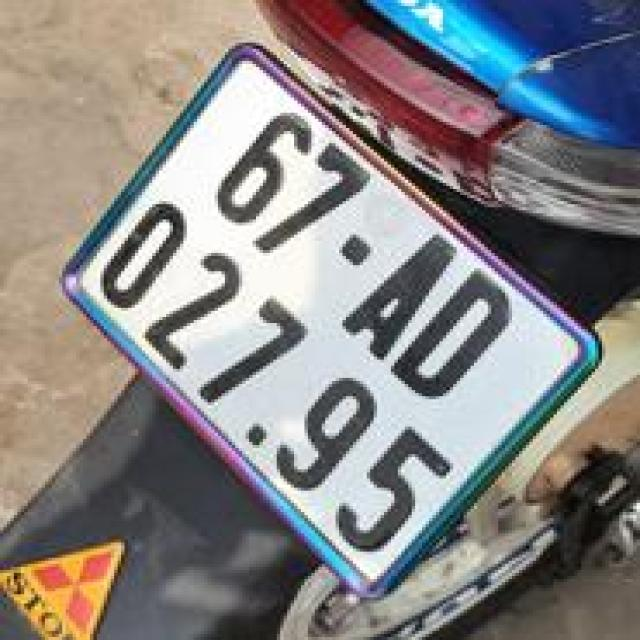0: (86, 185, 206, 323)
2: (123, 237, 277, 385)
5: (316, 405, 485, 565)
6: (190, 95, 332, 242)
7: (179, 283, 336, 425), (236, 133, 383, 267)
9: (265, 357, 409, 509)
A: (330, 222, 476, 375)
D: (383, 260, 538, 418)
